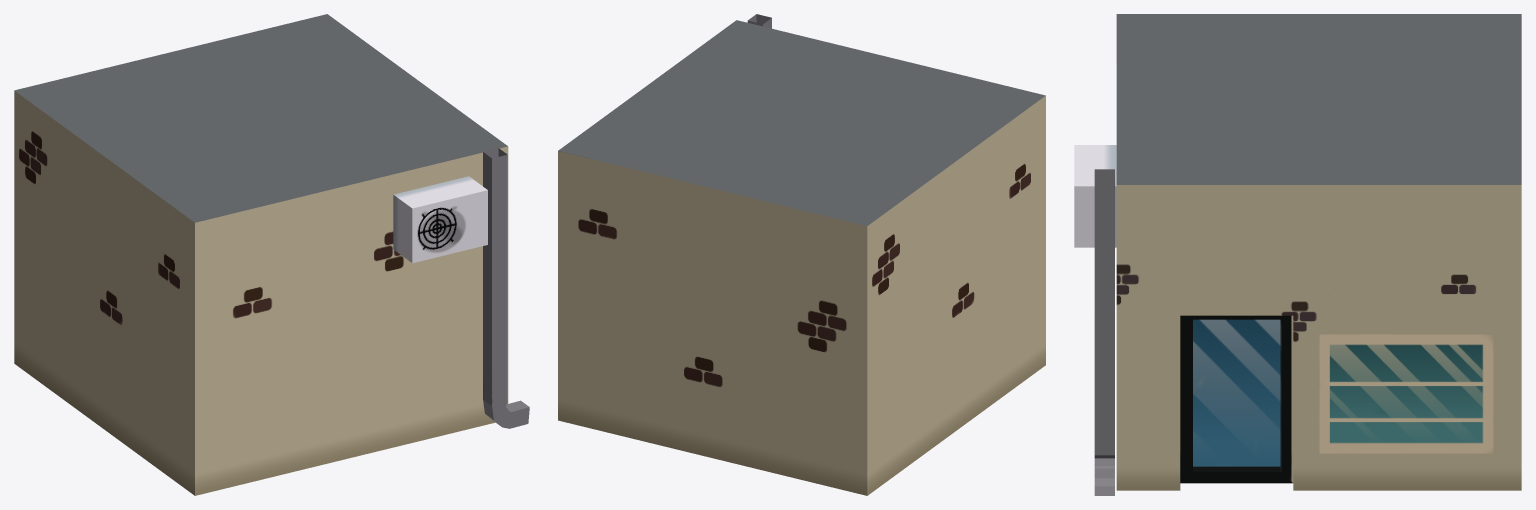
The model's file is Building_A.fbx.
3 views of the same model, side by side, from view 1: azimuth 30°, elevation 25°; view 2: azimuth 150°, elevation 25°; view 3: azimuth 270°, elevation 25° (orthographic). The views are drawn at different scales.
Visible parts, largest first — view 1: Building_A; view 2: Building_A; view 3: Building_A.
Boxes of the visible parts, left/top/right/bottom form: Building_A: left=14, top=14, right=529, bottom=495; Building_A: left=558, top=14, right=1045, bottom=495; Building_A: left=1074, top=14, right=1521, bottom=495.
Size of the model in its own units: 6.22 by 5.03 by 6.63.
